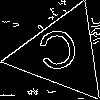C: (36, 29, 82, 80)
